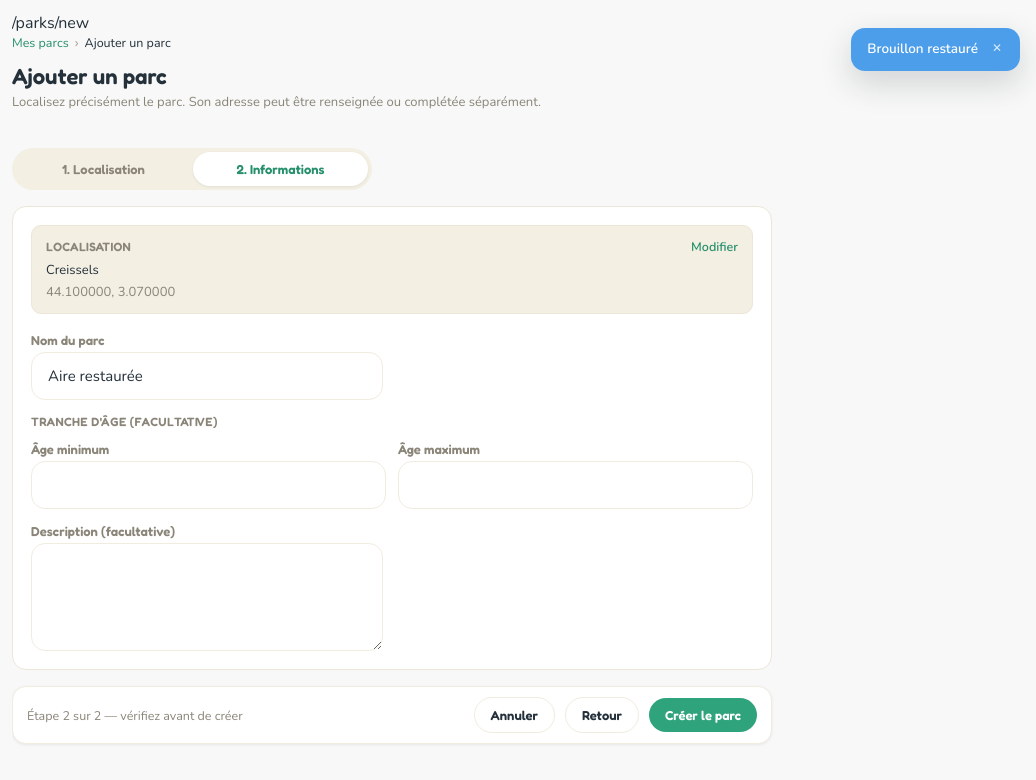
ParkNew — /parks/new (Lot 3C.4) › a valid stored draft is restored automatically into the fields
The image size is (1036, 780).
Expected: the text "Brouillon restauré" is shown, 867,40 -> 978,59
Expected: the field labelled "Nom du parc" holds "Aire restaurée", 31,352 -> 383,400
Click the button "Modifier". click: (715, 246)
box: 691,238 -> 738,255
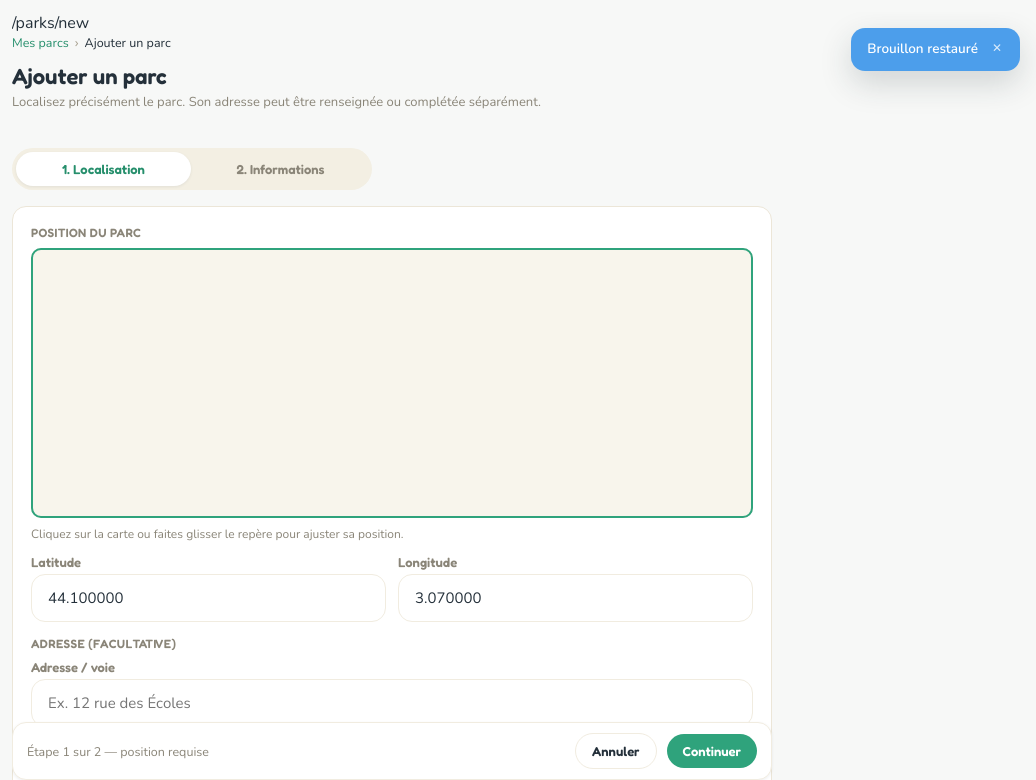
Expected: the number field labelled "Latitude" holds "44.100000", 31,574 -> 386,622
